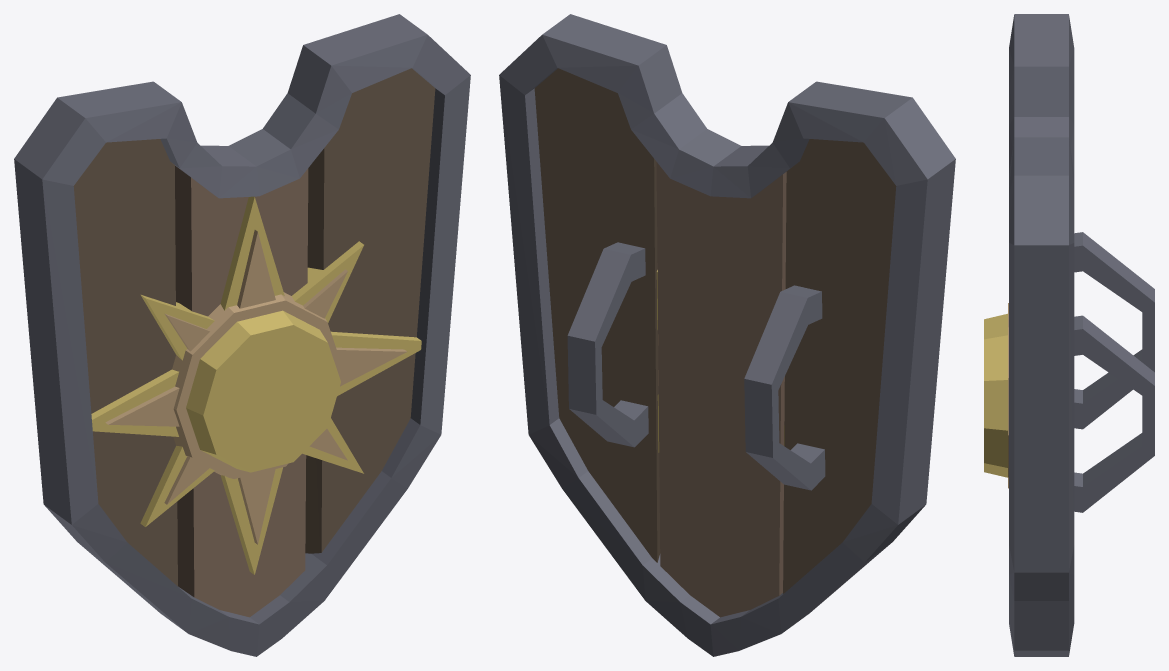
Rendered from shield_shield_19.glb.
3 renders of one model, left to right at view 1: azimuth 30°, elevation 25°; view 2: azimuth 150°, elevation 25°; view 3: azimuth 270°, elevation 25°, orthographic. The views are drawn at different scales.
Visible parts, largest first — view 1: shield_19; view 2: shield_19; view 3: shield_19.
Part boxes in pixels (bbox=[...]): shield_19: bbox=[14, 14, 470, 656]; shield_19: bbox=[499, 14, 955, 656]; shield_19: bbox=[984, 14, 1154, 656].
Size of the model in its own units: 69.07 by 89.4 by 24.63.
Materials: 1 (1 with a texture image).
